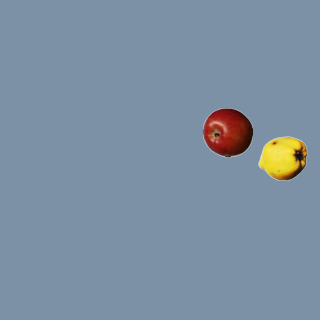Apple Braeburn: (202, 107, 252, 157)
Quince: (257, 133, 307, 183)
